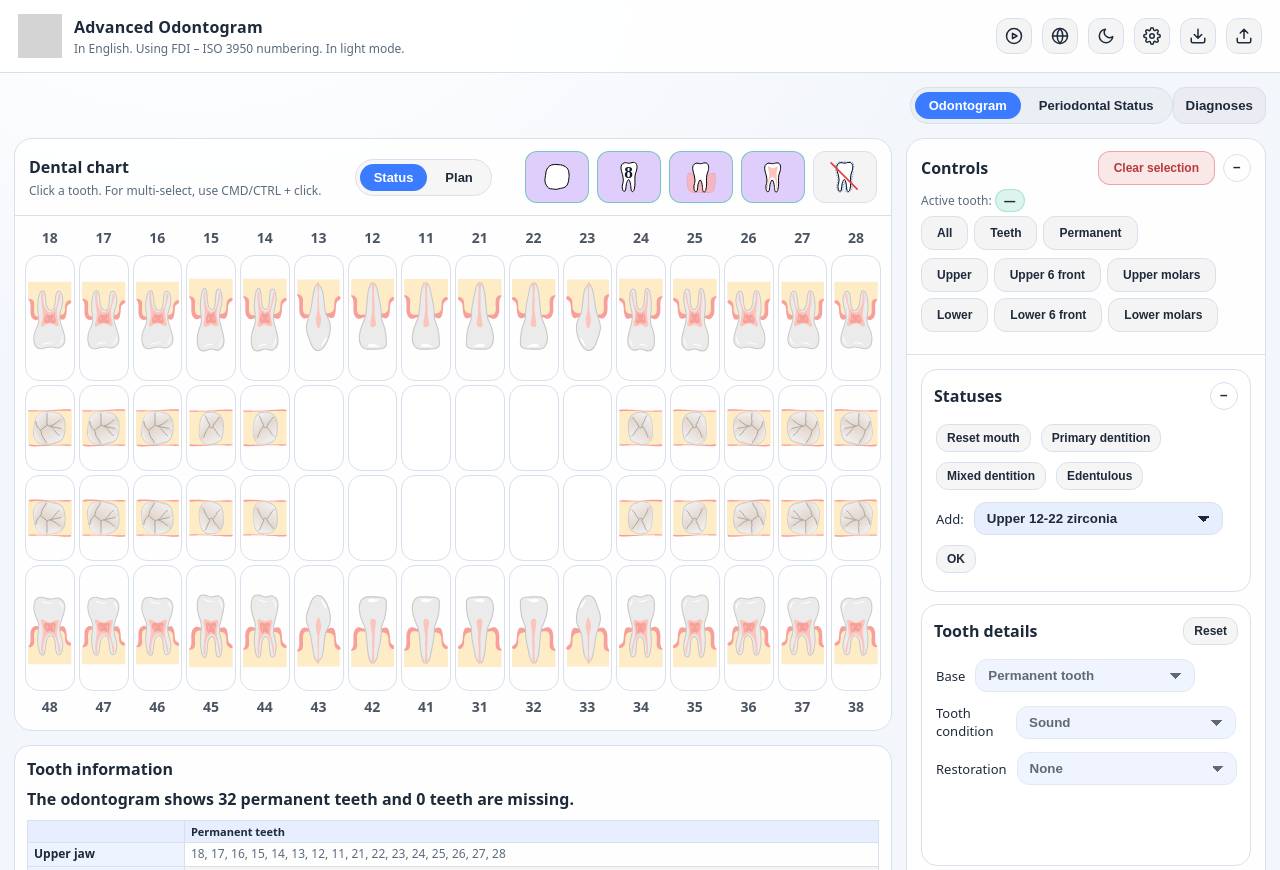
Test: Tooth-details card: selection & row visibility (Tier 3f regressions) › follows selection: after setting one tooth Missing, selecting another shows that tooth's own state
// Set tooth 11 to Missing.
Click the option named "11".
click(426, 318)  # box [401, 255, 451, 381]
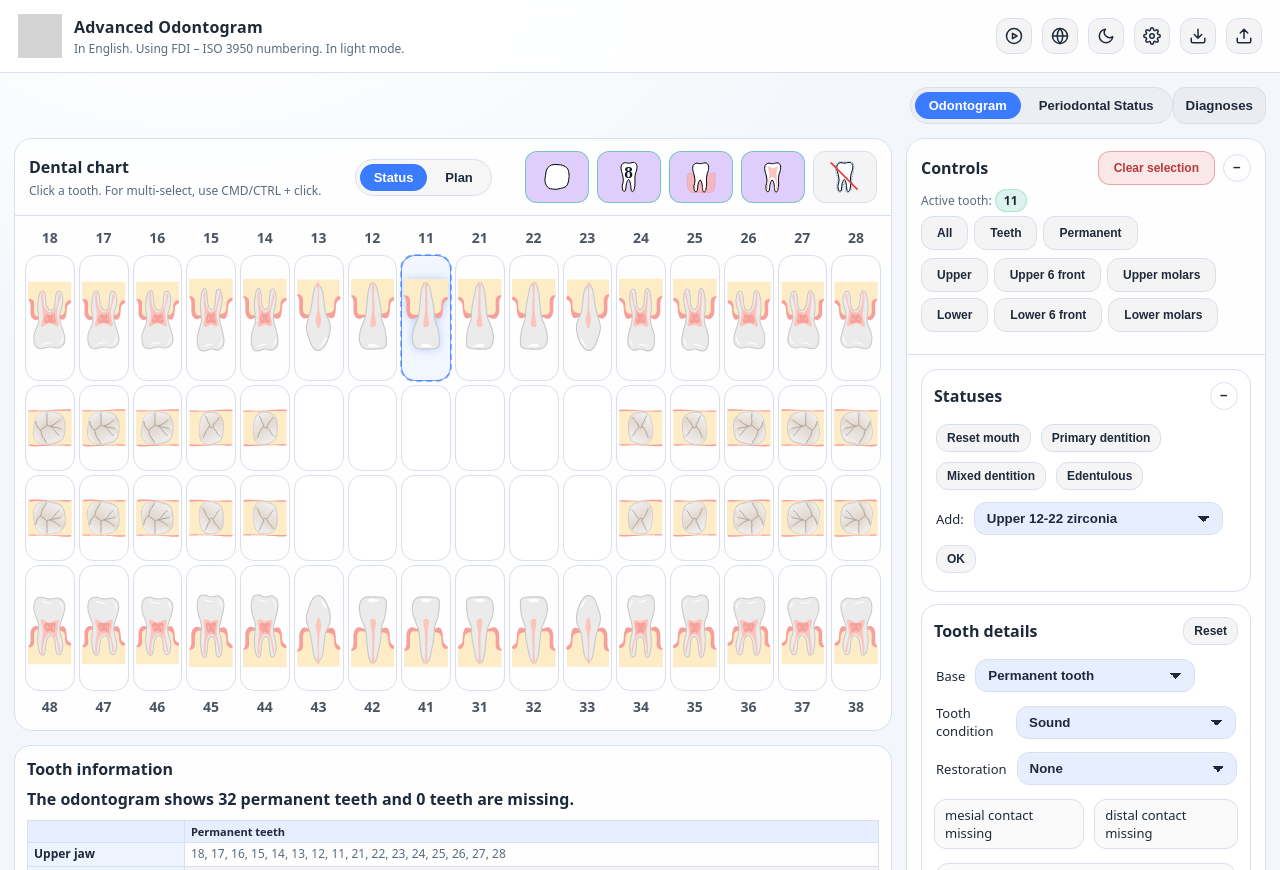
Select "Missing tooth" in the dropdown with id "toothSelect" at (1085, 676), box [975, 659, 1195, 692]
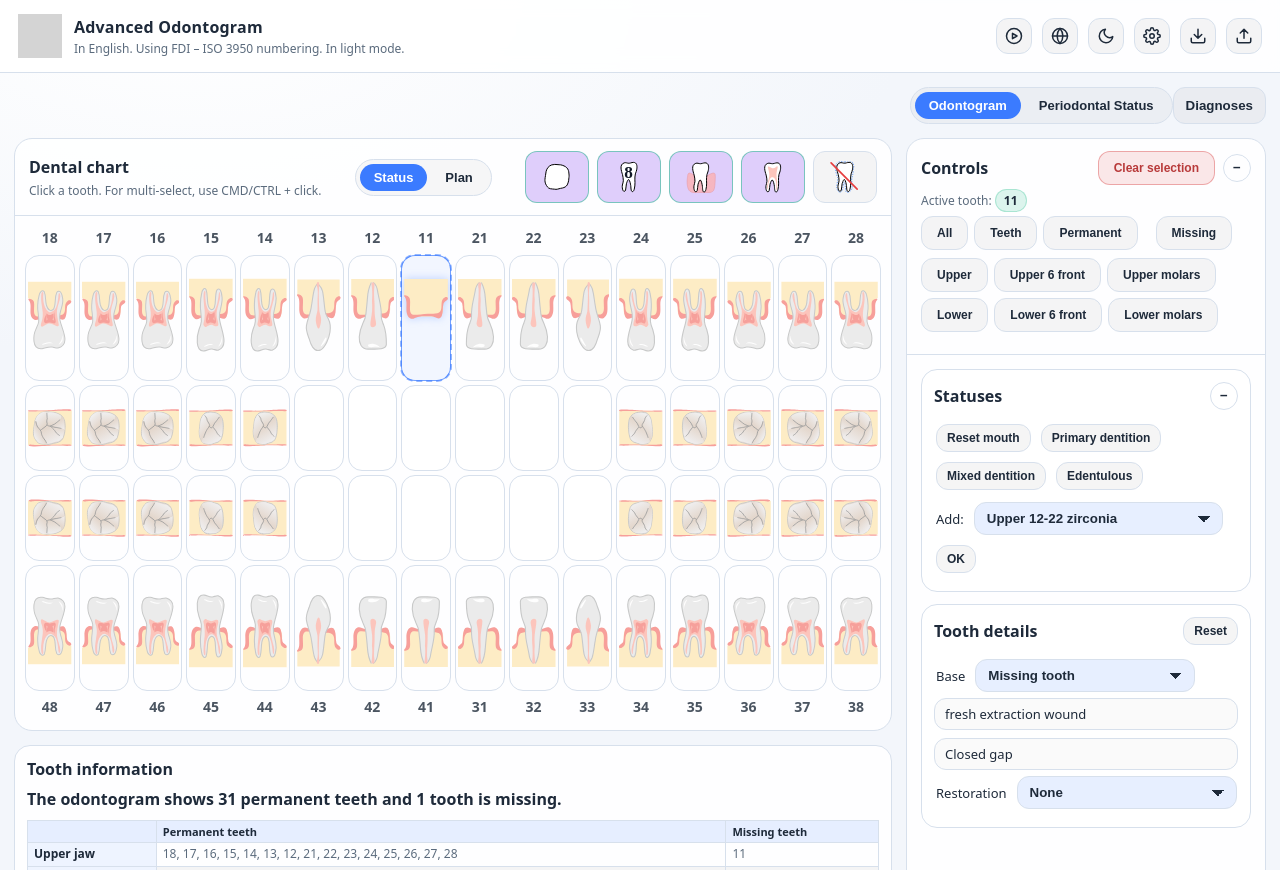
// Select a different, still-permanent tooth — the card must follow.
Click the option named "22".
click(534, 318)  # box [509, 255, 559, 381]
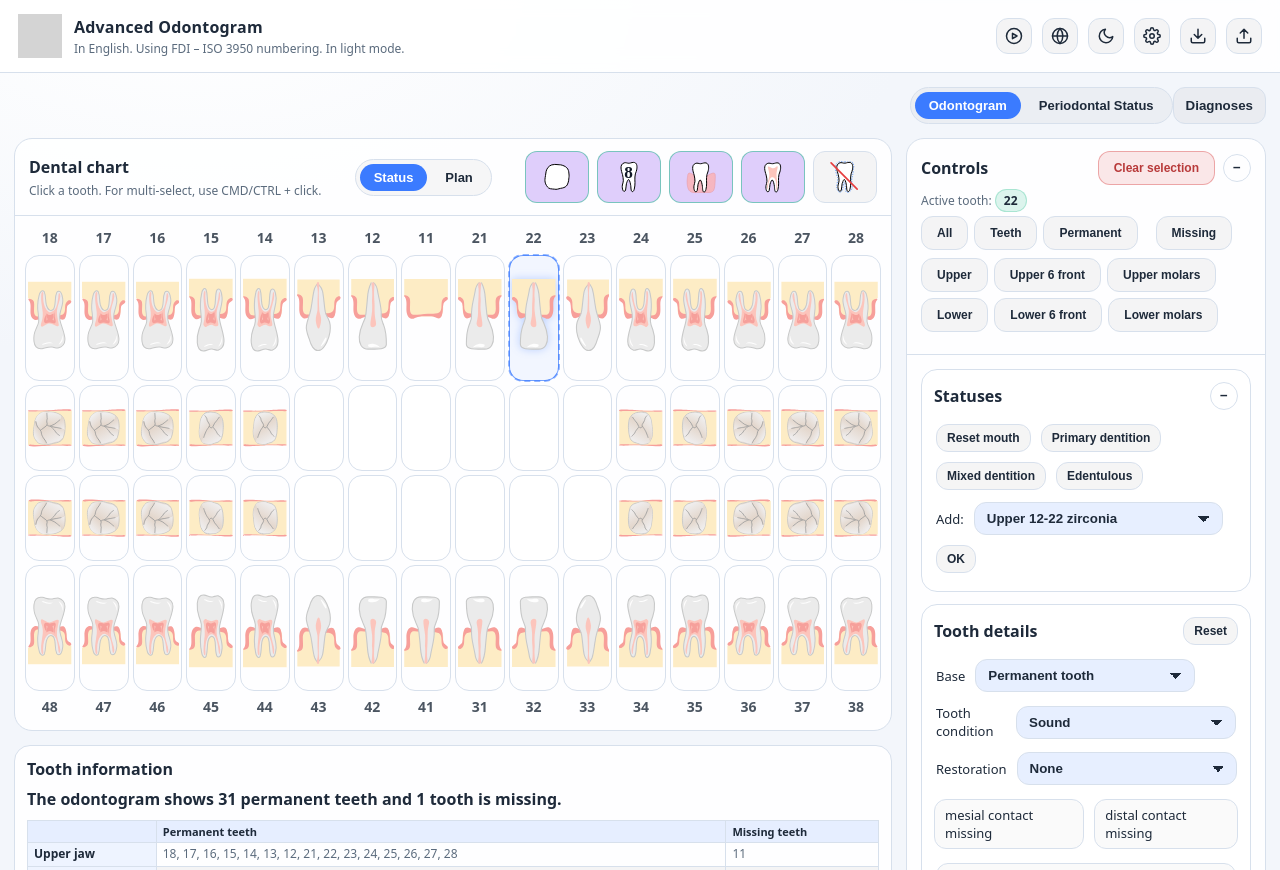
Check: the text with id "activeToothLabel" reads "22", box [1004, 192, 1018, 209]
